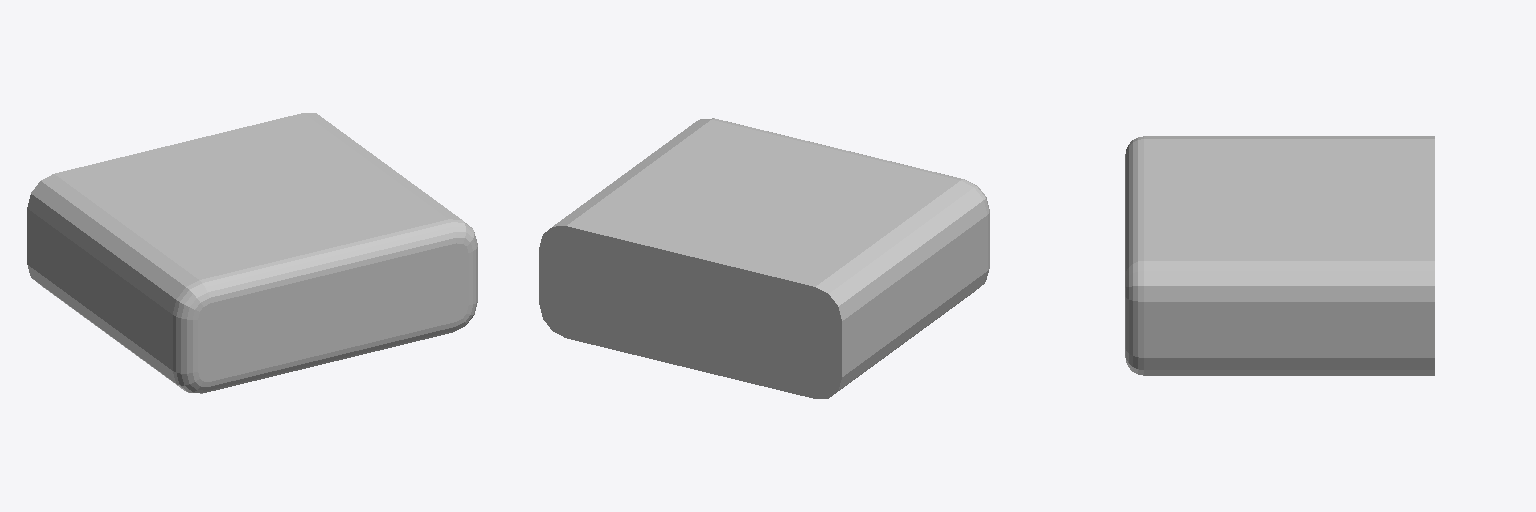
The model's file is 2_Small_Horizontal_Wall.obj.
The picture shows the model from 3 angles: view 1: azimuth 30°, elevation 25°; view 2: azimuth 150°, elevation 25°; view 3: azimuth 270°, elevation 25°; orthographic projection.
Visible parts, largest first — view 1: Small_Horizontal_Wall.001_Plane.014; view 2: Small_Horizontal_Wall.001_Plane.014; view 3: Small_Horizontal_Wall.001_Plane.014.
Boxes of the visible parts, <box> form: Small_Horizontal_Wall.001_Plane.014: <box>27,113,477,393</box>; Small_Horizontal_Wall.001_Plane.014: <box>539,118,989,398</box>; Small_Horizontal_Wall.001_Plane.014: <box>1125,136,1434,375</box>.
Size of the model in its own units: 5.65 by 2 by 5.